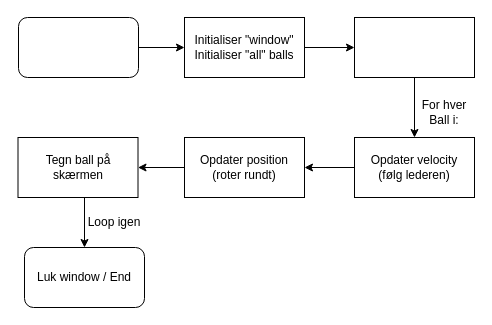
The diagram is 492 pixels wide and 325 high, and some of its shapes have lost their labels. Here are the shapes that lost their labels. From the top down, the centre of each, then its label:
At [78,47]: "Start".
At [414,47]: "Game looper (Indtil lukket)".
